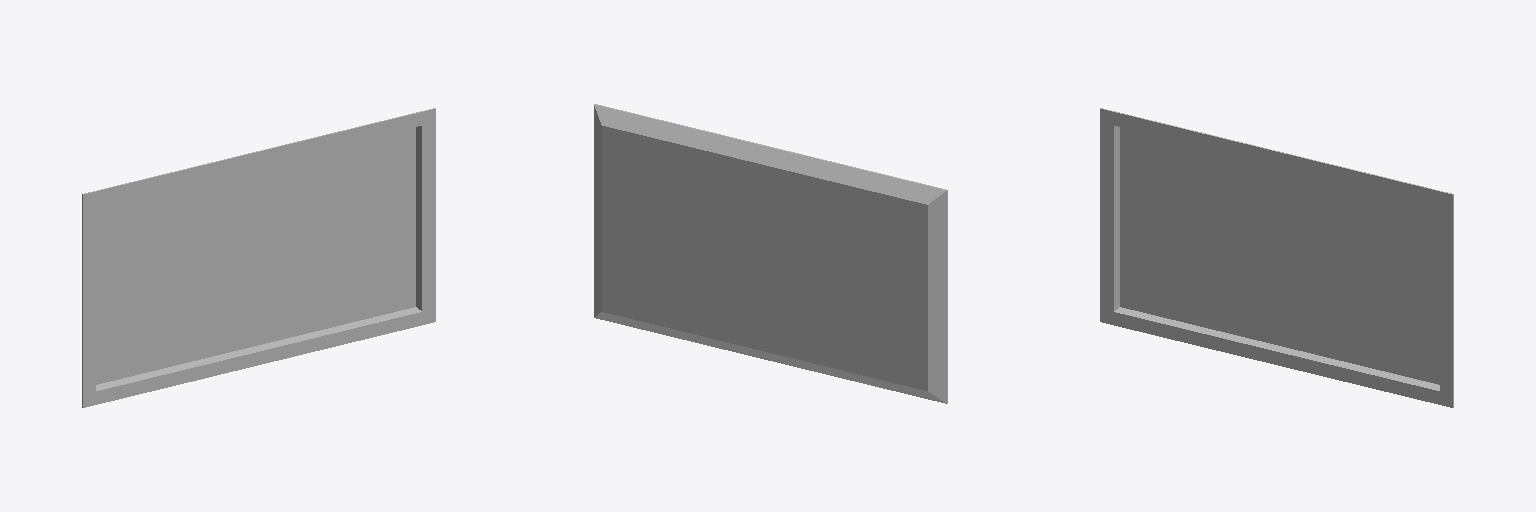
The model's file is TV-frame.obj.
The picture shows the model from 3 angles: view 1: azimuth 30°, elevation 25°; view 2: azimuth 150°, elevation 25°; view 3: azimuth 330°, elevation 25°; orthographic projection.
Visible parts, largest first — view 1: TV_FlatScr; view 2: TV_FlatScr; view 3: TV_FlatScr.
Part boxes in pixels (left/top/right/bottom): TV_FlatScr: left=82, top=108, right=435, bottom=407; TV_FlatScr: left=594, top=104, right=947, bottom=403; TV_FlatScr: left=1100, top=108, right=1453, bottom=407.
Bounding box in the file's own units: 124 × 71.97 × 4.02.